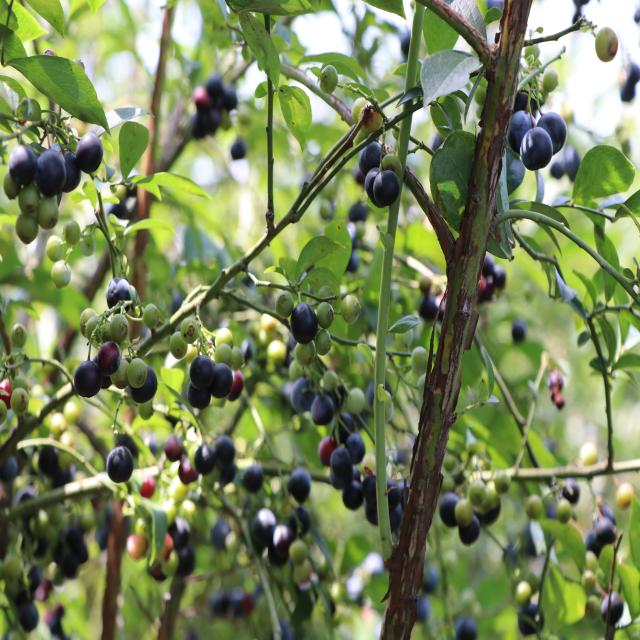blueberry: (520, 126, 554, 172), (288, 300, 319, 344), (125, 366, 157, 408), (104, 442, 136, 484), (71, 358, 100, 403), (536, 109, 568, 147), (36, 151, 64, 191), (505, 110, 533, 148), (58, 151, 83, 193), (8, 147, 36, 184), (75, 132, 102, 170), (291, 376, 318, 414), (209, 356, 234, 396), (373, 168, 398, 208), (106, 272, 131, 307), (455, 514, 481, 546), (240, 463, 266, 493), (212, 435, 235, 467), (310, 394, 334, 424), (190, 354, 212, 386), (341, 477, 363, 509), (185, 379, 210, 407), (289, 470, 311, 501), (359, 137, 383, 165), (344, 431, 365, 462), (440, 492, 459, 526), (270, 526, 292, 555), (254, 508, 275, 538), (334, 412, 354, 438), (330, 447, 350, 472), (366, 168, 380, 202), (195, 444, 212, 471)
blueberry-unripe: (16, 213, 39, 243), (50, 259, 72, 289), (340, 294, 361, 324), (110, 356, 129, 389), (127, 357, 147, 387), (39, 199, 59, 229), (274, 290, 294, 320), (294, 341, 316, 368), (319, 64, 338, 95), (168, 331, 188, 360), (18, 187, 40, 213), (79, 307, 98, 337), (85, 315, 106, 342), (180, 317, 200, 344), (350, 96, 368, 126), (411, 346, 430, 374), (213, 344, 234, 369), (314, 329, 332, 356), (45, 236, 65, 260), (77, 233, 97, 257), (316, 302, 335, 327), (10, 322, 28, 348), (525, 494, 543, 520), (12, 387, 28, 416), (108, 317, 128, 340), (63, 221, 81, 246), (144, 301, 160, 329), (468, 480, 486, 504), (215, 326, 234, 347), (394, 328, 414, 347), (3, 176, 20, 198), (495, 471, 512, 493), (349, 388, 363, 414), (318, 284, 336, 304), (556, 499, 571, 523), (322, 369, 338, 388)
